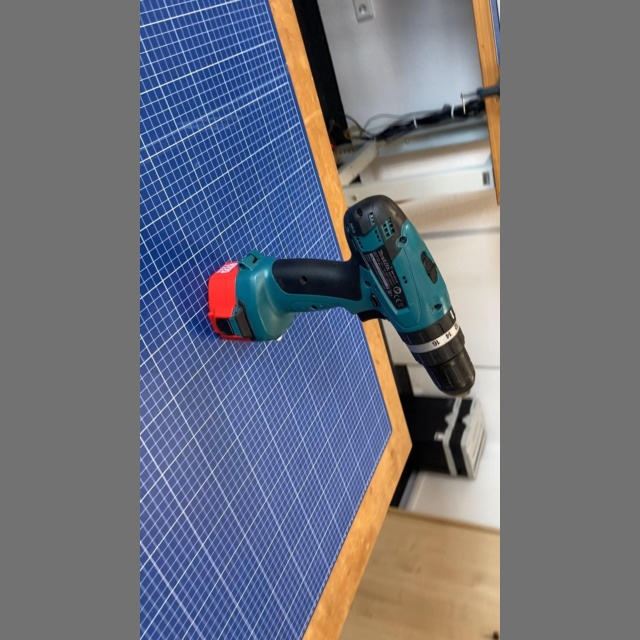drill: (202, 186, 485, 408)
